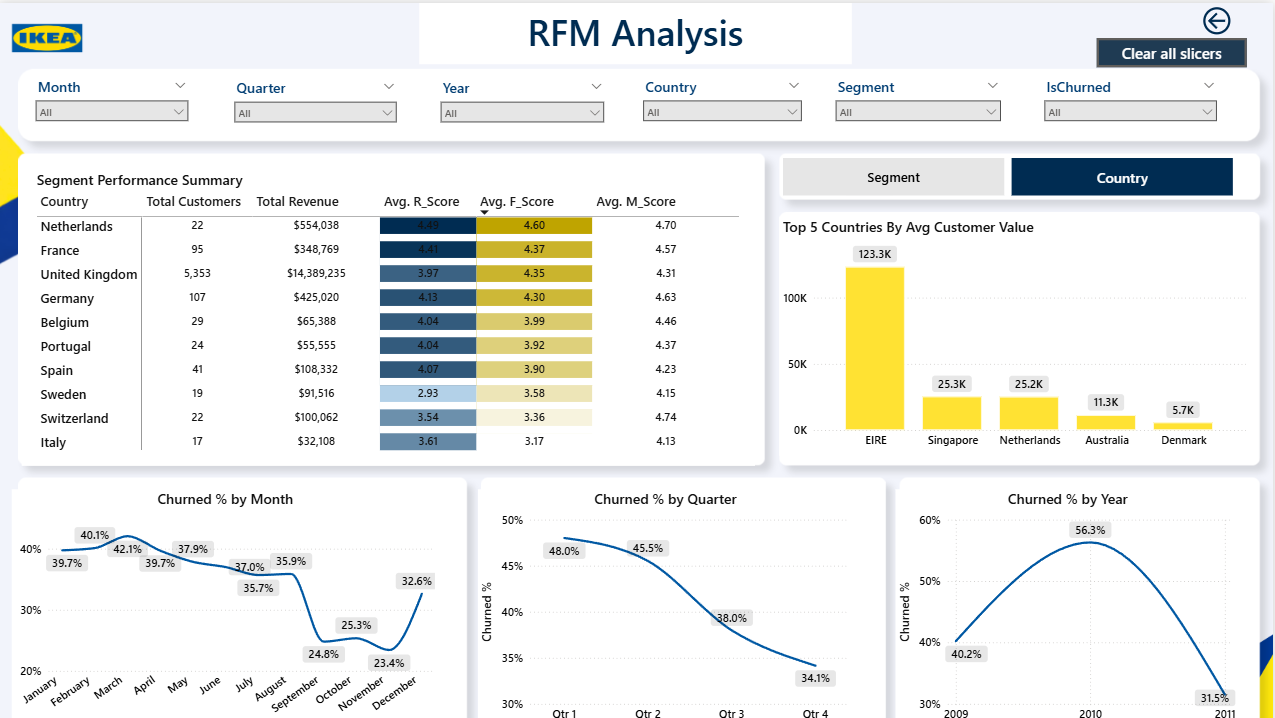

Layout of this report page (visuals, bound fields, positions):
{"tool":"powerbi","page":{"name":"RFM Analysis","canvas":[1700,1000],"ordinal":1},"visuals":[{"type":"slicer","fields":{"Values":["Sheet1.InvoiceDate.Variation.Date Hierarchy.Month"]},"box":[40,93.3,223.3,85],"z":0},{"type":"columnChart","title":"Top 5 Countries By Avg Customer Value","fields":{"Y":["Sheet1.Avg Customer Value"],"Category":["Sheet1.Country"]},"box":[1042.4,284.8,627.1,318.6],"z":0,"group":"g1"},{"type":"pivotTable","title":"Segment Performance Summary","fields":{"Values":["Sheet1.Total Customers","Sheet1.Total Revenue","Avg(Sheet1.R_Score)","Avg(Sheet1.F_Score)","Avg(Sheet1.M_Score)"],"Rows":["Sheet1.Country"]},"box":[32.2,208.5,978,408.5],"z":1000,"group":"g1"},{"type":"lineChart","fields":{"Category":["Sheet1.InvoiceDate.Variation.Date Hierarchy.Month"],"Y":["Sheet1.Churned %"]},"box":[18.3,648.5,569.5,320.3],"z":1000},{"type":"lineChart","fields":{"Category":["Sheet1.InvoiceDate.Variation.Date Hierarchy.Year"],"Y":["Sheet1.Churned %"]},"box":[1196.3,648.5,459.3,320.3],"z":2000},{"type":"slicer","fields":{"Values":["Sheet1.InvoiceDate.Variation.Date Hierarchy.Quarter"]},"box":[305,95,236.7,85],"z":3000},{"type":"lineChart","fields":{"Category":["Sheet1.InvoiceDate.Variation.Date Hierarchy.Quarter"],"Y":["Sheet1.Churned %"]},"box":[640.3,648.5,500,320.3],"z":4000},{"type":"slicer","fields":{"Values":["Sheet1.InvoiceDate.Variation.Date Hierarchy.Year"]},"box":[580,95,238.3,85],"z":5000},{"type":"slicer","fields":{"Values":["Sheet1.Country"]},"box":[850,93.3,231.7,85],"z":6000},{"type":"slicer","fields":{"Values":["Sheet1.Segment"]},"box":[1106.7,93.3,240,85],"z":7000},{"type":"slicer","fields":{"Values":["Sheet1.IsChurned"]},"box":[1385,93.3,250,85],"z":8000},{"type":"bookmarkNavigator","box":[1061.7,206.7,503.3,50],"z":9000},{"type":"bookmarkNavigator","box":[1046.7,206.7,600,50],"z":11000},{"type":"image","box":[0,0,131.7,93.3],"z":12000},{"type":"textbox","box":[561.7,0,576.7,81.7],"z":13000},{"type":"actionButton","box":[1574.6,0,100,47.5],"z":14000},{"type":"actionButton","box":[1464.4,47.5,200,39],"z":15000},{"type":"group","id":"g1","title":"Country","box":[32.2,208.5,1637.3,408.5],"z":16000}]}

Visuals, with their boxes on the page's 1700x1000 design canvas (x1, y1, x2, y2). These are canvas units, not pixel positions in the 1275x718 screenshot, which may show the page scaled, cropped or inside an application window:
slicer - Sheet1.InvoiceDate.Variation.Date Hierarchy.Month: Rect(40, 93, 263, 178)
"Top 5 Countries By Avg Customer Value" columnChart: Rect(1042, 285, 1670, 603)
"Segment Performance Summary" pivotTable: Rect(32, 208, 1010, 617)
lineChart - Sheet1.InvoiceDate.Variation.Date Hierarchy.Month x Sheet1.Churned %: Rect(18, 648, 588, 969)
lineChart - Sheet1.InvoiceDate.Variation.Date Hierarchy.Year x Sheet1.Churned %: Rect(1196, 648, 1656, 969)
slicer - Sheet1.InvoiceDate.Variation.Date Hierarchy.Quarter: Rect(305, 95, 542, 180)
lineChart - Sheet1.InvoiceDate.Variation.Date Hierarchy.Quarter x Sheet1.Churned %: Rect(640, 648, 1140, 969)
slicer - Sheet1.InvoiceDate.Variation.Date Hierarchy.Year: Rect(580, 95, 818, 180)
slicer - Sheet1.Country: Rect(850, 93, 1082, 178)
slicer - Sheet1.Segment: Rect(1107, 93, 1347, 178)
slicer - Sheet1.IsChurned: Rect(1385, 93, 1635, 178)
bookmarkNavigator: Rect(1062, 207, 1565, 257)
bookmarkNavigator: Rect(1047, 207, 1647, 257)
image: Rect(0, 0, 132, 93)
textbox: Rect(562, 0, 1138, 82)
actionButton: Rect(1575, 0, 1675, 48)
actionButton: Rect(1464, 48, 1664, 86)
"Country" group: Rect(32, 208, 1670, 617)
